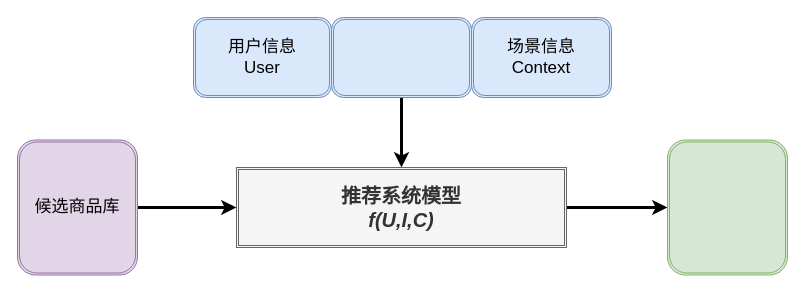
The diagram is 805 pixels wide and 293 high, and some of its shapes have lost their labels. The shapes that lost their labels are listed below. From the top down, each one's centre as x and y in pixels, then its label:
At pixel 401 57: "商品信息 Item".
At pixel 727 207: "推荐商品列表".
